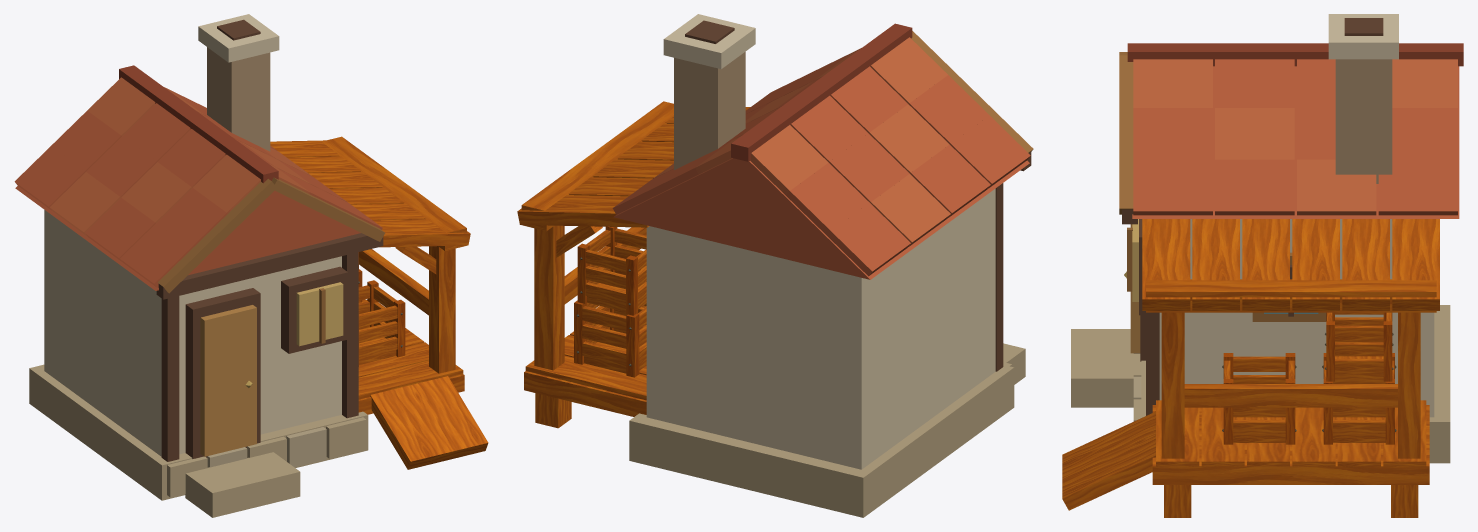
File: warehouse-expanded.gltf
3 views of the same model, side by side, from view 1: azimuth 30°, elevation 25°; view 2: azimuth 150°, elevation 25°; view 3: azimuth 270°, elevation 25° (orthographic). The views are drawn at different scales.
Visible parts, largest first — view 1: warehouse-expanded; view 2: warehouse-expanded; view 3: warehouse-expanded.
Boxes of the visible parts, x1,y1,x2,y2 form: warehouse-expanded: [14, 14, 488, 517]; warehouse-expanded: [517, 14, 1033, 517]; warehouse-expanded: [1062, 14, 1463, 517].
Bounding box in the file's own units: 1.9 × 2.03 × 1.77.
2 materials, 1 textured.
